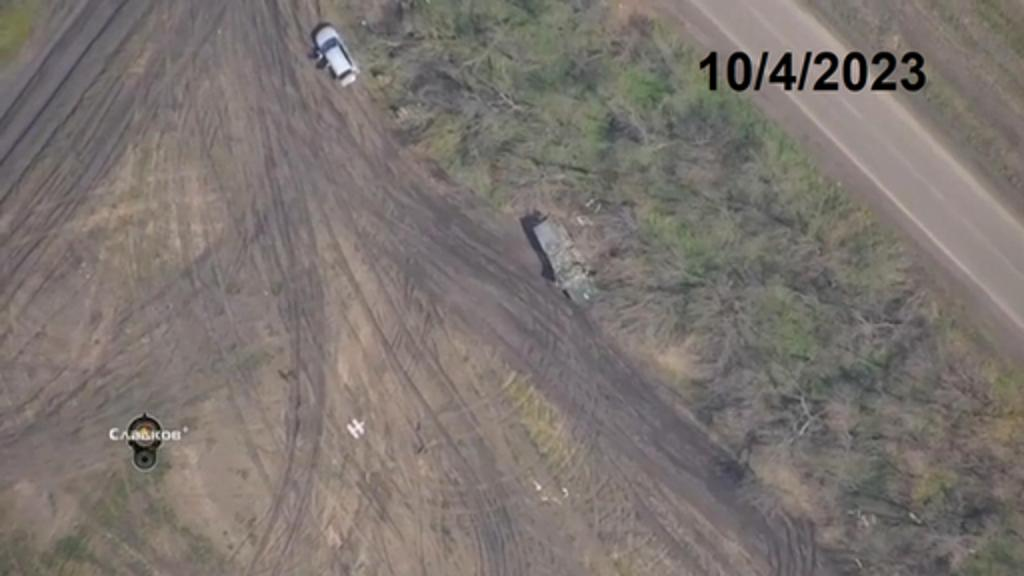CAR: (308, 22, 360, 90)
MLRS: (526, 212, 602, 308)
